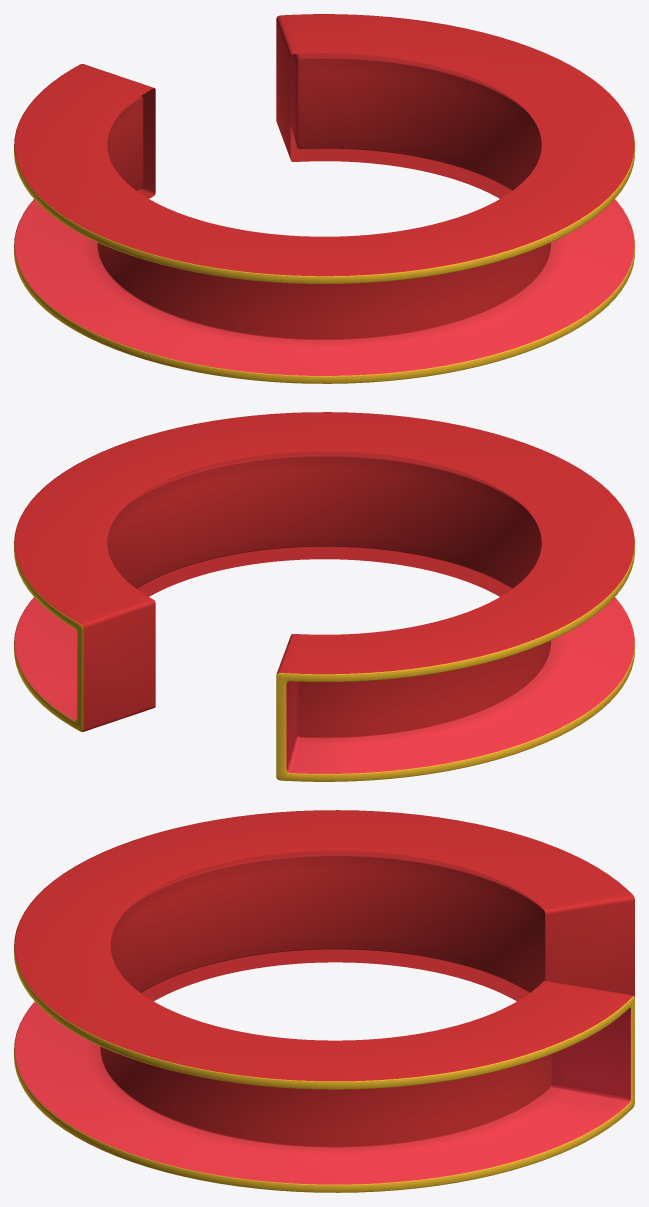
File: guizi_01.FBX
The picture shows the model from 3 angles, top to bottom: view 1: azimuth 30°, elevation 25°; view 2: azimuth 150°, elevation 25°; view 3: azimuth 270°, elevation 25°; orthographic projection. The views are drawn at different scales.
Parts seen in each view (by area): view 1: guizi_01; view 2: guizi_01; view 3: guizi_01.
Boxes of the visible parts, x1,y1,x2,y2 form: guizi_01: (14, 14, 634, 383); guizi_01: (14, 412, 634, 781); guizi_01: (14, 810, 634, 1192).
Size of the model in its own units: 881 by 169 by 852.
1 material, 1 textured.
